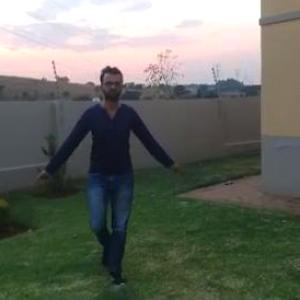land: (31, 55, 182, 288)
